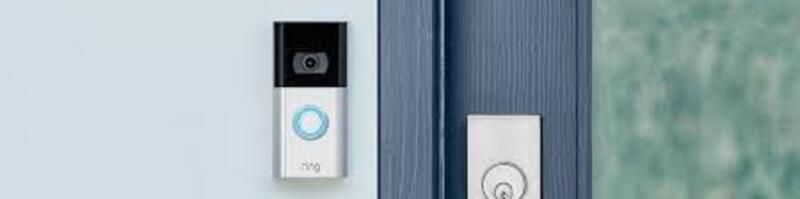doorbell: (267, 15, 352, 185)
